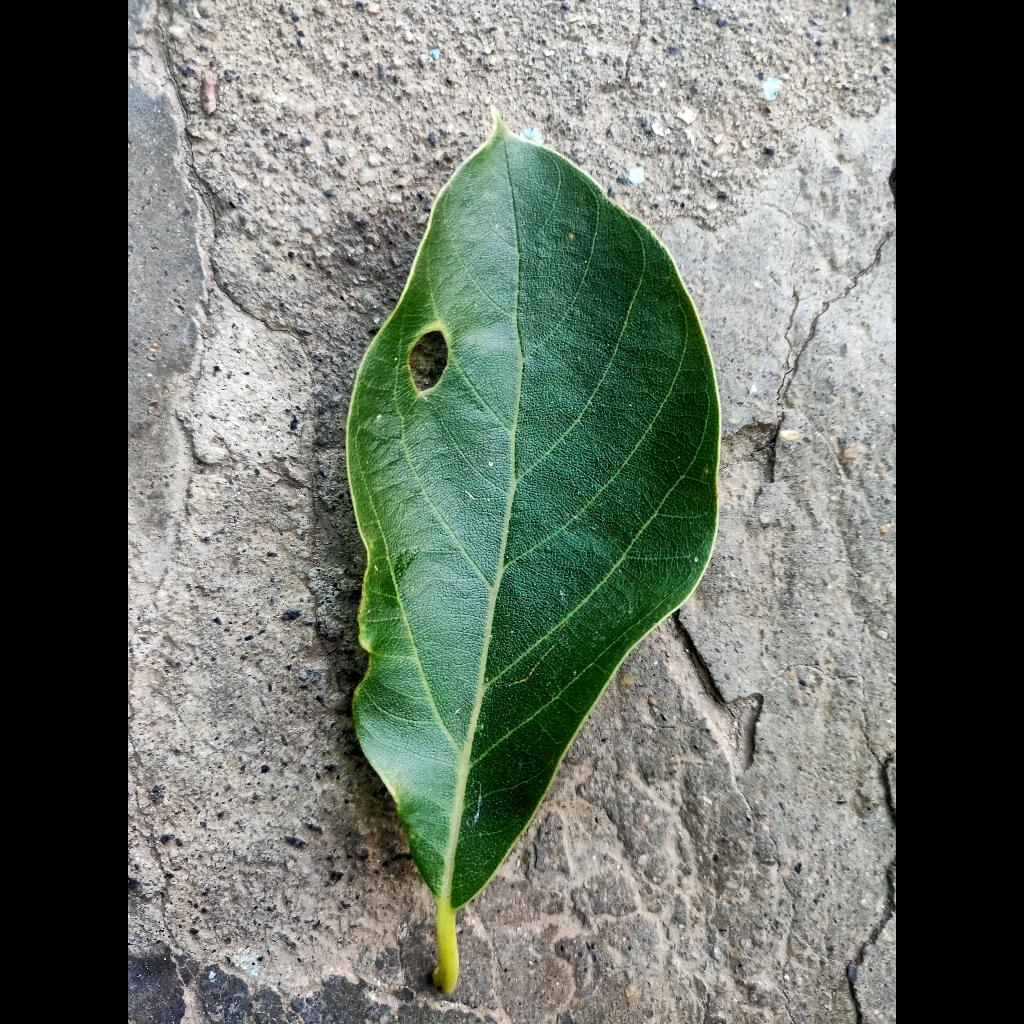Pest attack: (388, 296, 504, 450)
